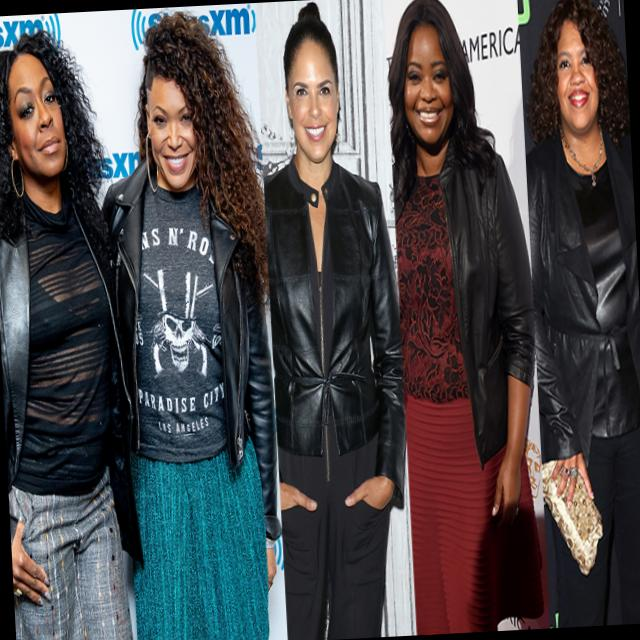Jacket: (95, 138, 290, 486), (370, 123, 540, 516), (250, 156, 410, 533), (0, 182, 149, 579), (513, 119, 640, 474)
